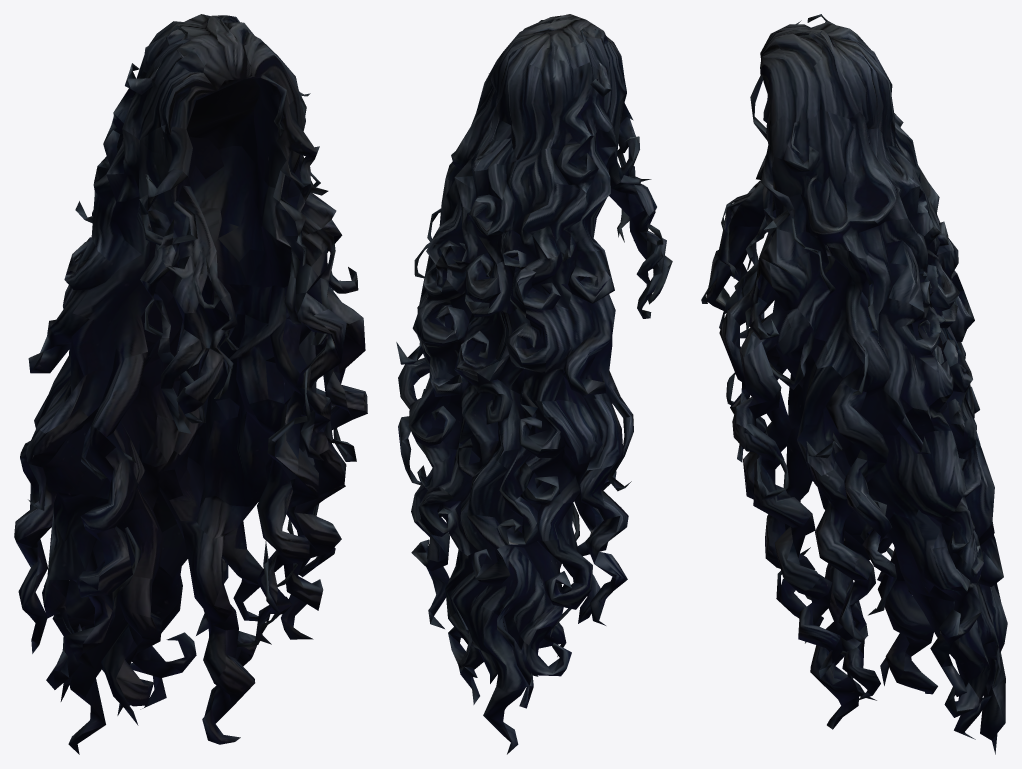
Rendered from witch_hair.glb.
3 views of the same model, side by side, from view 1: azimuth 30°, elevation 25°; view 2: azimuth 150°, elevation 25°; view 3: azimuth 270°, elevation 25° (orthographic). The views are drawn at different scales.
Parts seen in each view (by area): view 1: hair; view 2: hair; view 3: hair.
Part boxes in pixels (x1,y1,x2,y2): hair: [14, 14, 367, 754]; hair: [396, 14, 672, 754]; hair: [701, 14, 1007, 754].
Bounding box in the file's own units: 0.4827 × 1.23 × 0.4603.
1 material, 1 textured.
